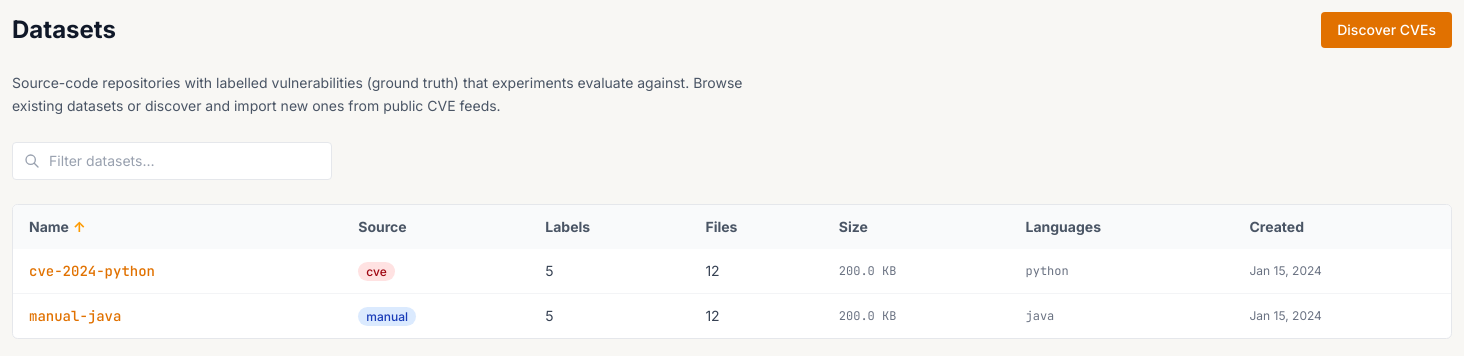
Datasets — filter interaction › filters datasets by name as user types
Check: the text "cve-2024-python" is shown, box [13,248,342,293]
Type "manual" into the field with placeholder "Filter datasets…".
click(172, 160); type("manual")  # box [12,142,332,180]
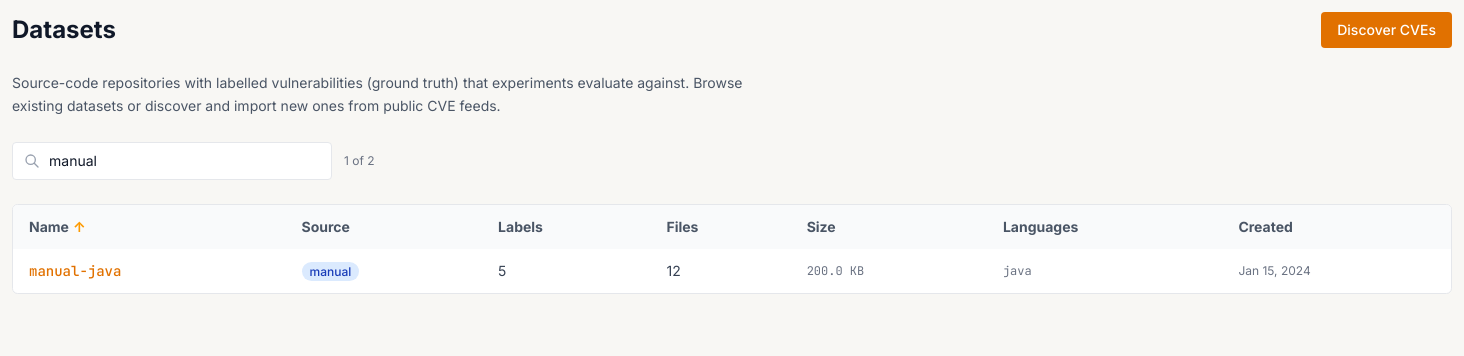
Check: the text "manual-java" is shown, box [13,248,286,292]
Check: the text "cve-2024-python" is gone
